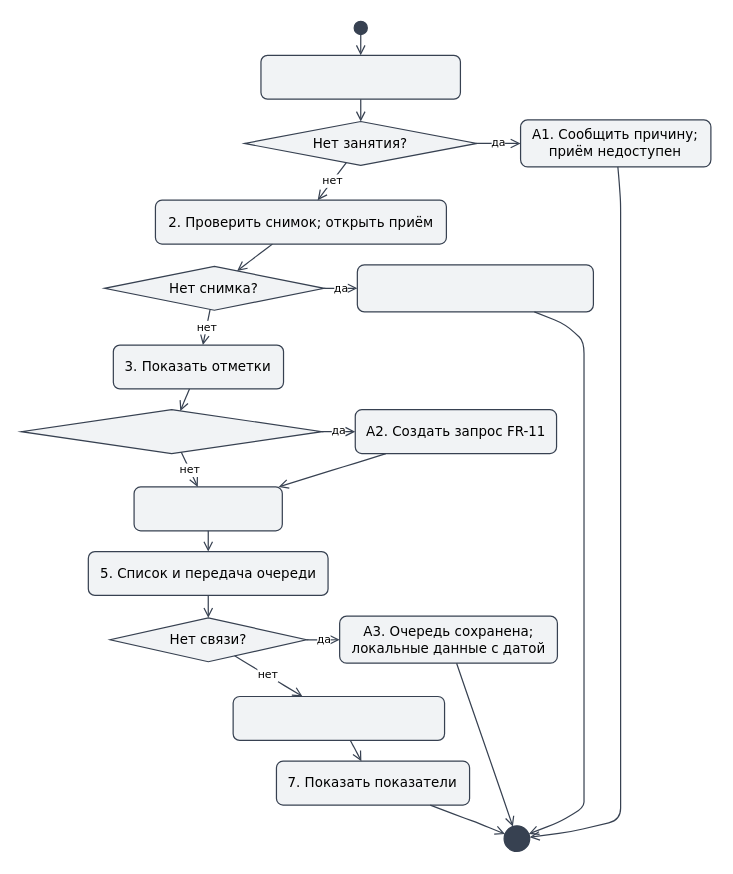
This 733x874 diagram has some shape labels left out. Each missing label, with the centre of its shape:
"1. Выбрать своё занятие" goes at point 360,76.
"4. Закрыть приём" goes at point 207,508.
"6. Выбрать период сводки" goes at point 338,717.
"А1. Обновить снимок онлайн; приём недоступен" goes at point 474,288.
"Спорная отметка?" goes at point 171,431.
